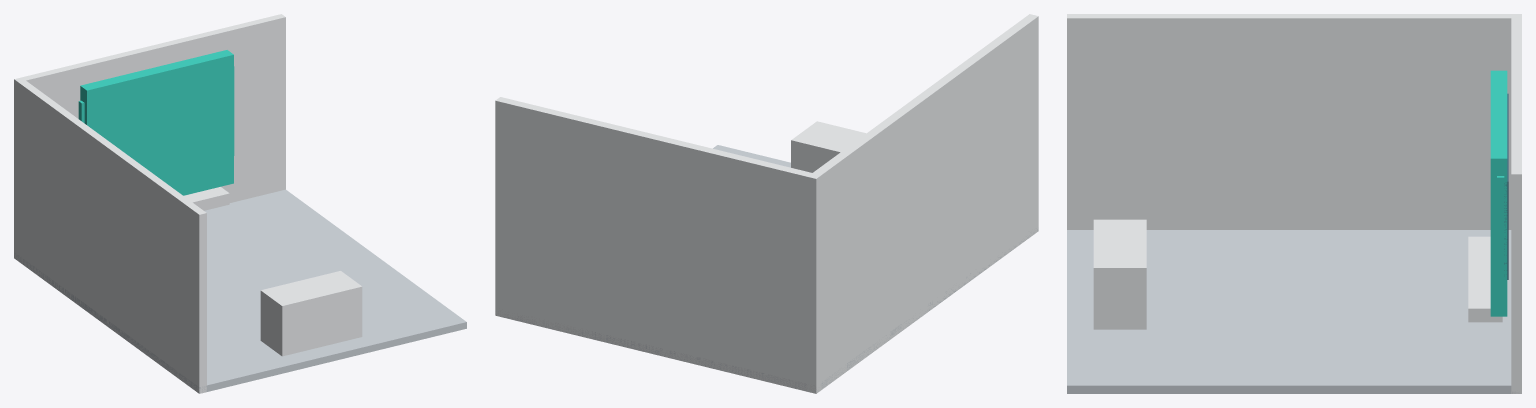
The picture shows the model from 3 angles, left to right: view 1: azimuth 30°, elevation 25°; view 2: azimuth 150°, elevation 25°; view 3: azimuth 270°, elevation 25°; orthographic projection. The views are drawn at different scales.
Parts seen in each view (by area): view 1: Exhibition Booth Concept; view 2: Exhibition Booth Concept; view 3: Exhibition Booth Concept.
Boxes of the visible parts, <box> form: Exhibition Booth Concept: <box>14,14,466,393</box>; Exhibition Booth Concept: <box>495,14,1038,393</box>; Exhibition Booth Concept: <box>1067,14,1521,393</box>.
Bounding box in the file's own units: 5 × 3.2 × 6.
